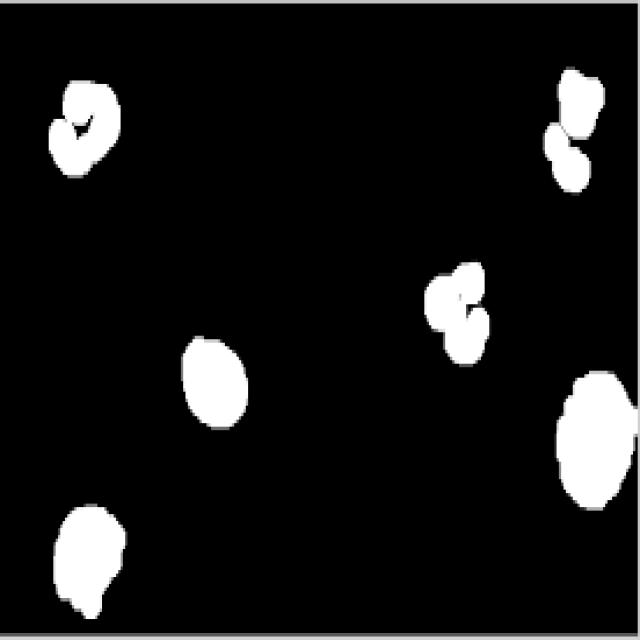cell: (560, 369, 637, 508), (57, 510, 124, 623), (547, 69, 605, 186), (47, 83, 119, 176), (426, 261, 489, 361), (182, 343, 248, 428)
